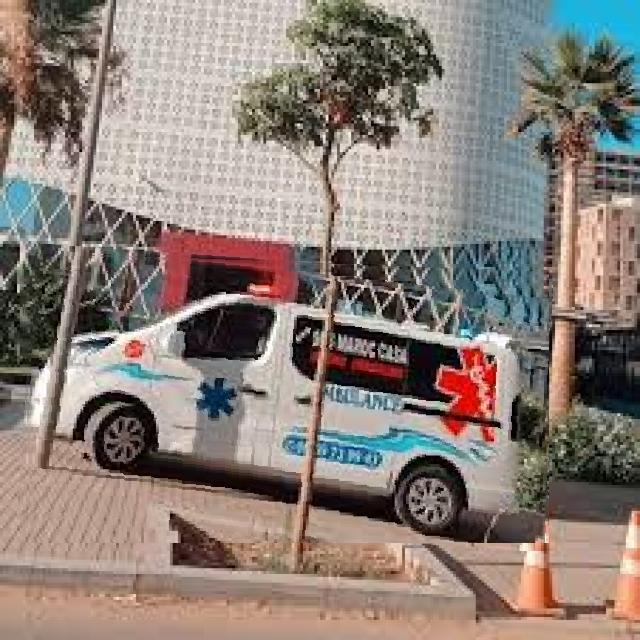ambulance: (22, 252, 549, 543)
